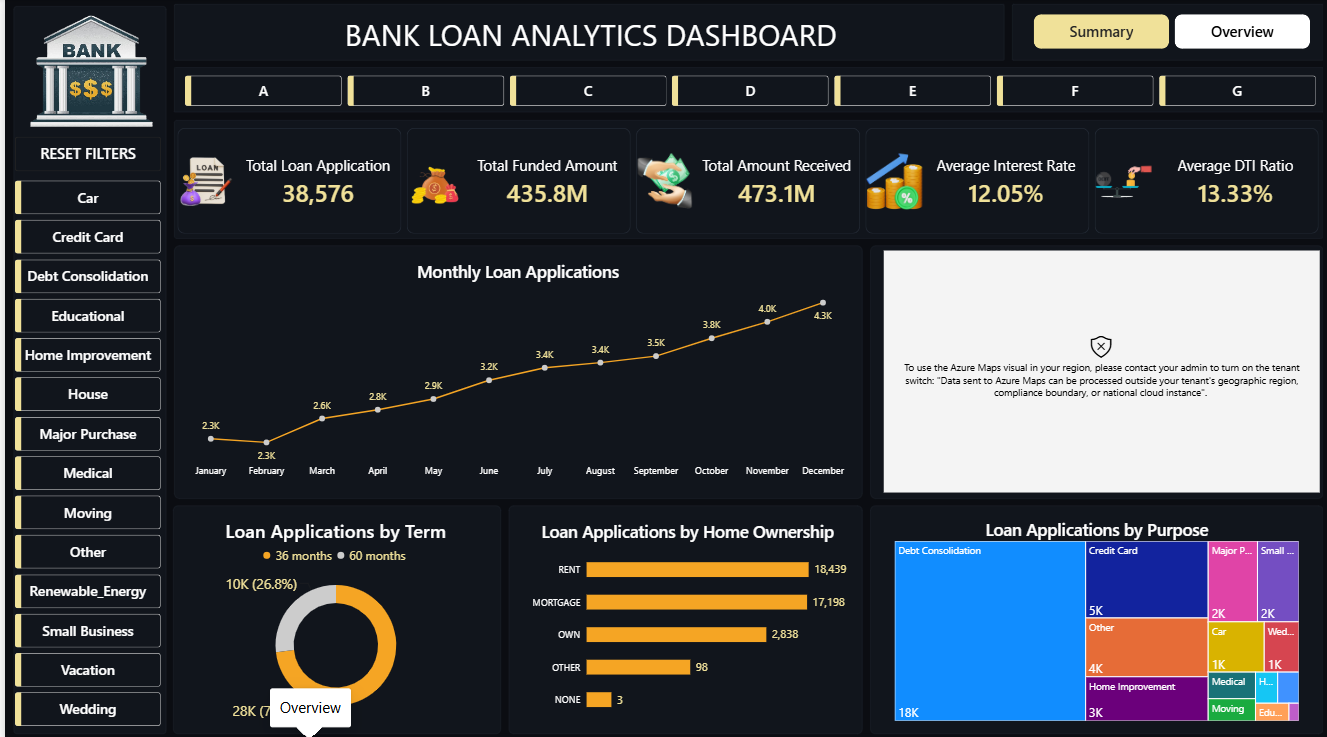

Layout of this report page (visuals, bound fields, positions):
{"tool":"powerbi","page":{"name":"Overview","canvas":[1920,1080],"ordinal":1},"visuals":[{"type":"cardVisual","fields":{"Data":["financial_loan.Total Loan Application","financial_loan.Total Funded Amount","financial_loan.Total Amount Received","financial_loan.Average Interest Rate","financial_loan.Average DTI Rate"]},"box":[250,187.8,1653.3,153.3],"z":0},{"type":"image","box":[0,0,250,210],"z":1000},{"type":"advancedSlicerVisual","fields":{"Values":["financial_loan.PURPOSE"]},"box":[14.3,264.3,211.4,802.9],"z":2000},{"type":"advancedSlicerVisual","fields":{"Values":["financial_loan.GRADE"]},"box":[260,113,1643,44],"z":3000},{"type":"actionButton","box":[14.3,200,211.4,50],"z":4000},{"type":"textbox","box":[250,24.3,1197.1,68.6],"z":5000},{"type":"pageNavigator","box":[1488.6,24.3,400,50],"z":6000},{"type":"lineChart","title":"Monthly Loan Applications","fields":{"Category":["financial_loan.ISSUE_DATE.Variation.Date Hierarchy.Month"],"Y":["financial_loan.Total Loan Application"]},"box":[250,365.7,985.7,348.6],"z":7000},{"type":"donutChart","title":"Loan Applications by Term","fields":{"Category":["financial_loan.TERM"],"Y":["financial_loan.Total Loan Application"]},"box":[250,738.6,458.6,328.6],"z":8000},{"type":"clusteredBarChart","title":"Loan Applications by Home Ownership","fields":{"Category":["financial_loan.HOME_OWNERSHIP"],"Y":["financial_loan.Total Loan Application"]},"box":[742.9,741.4,492.9,321.4],"z":9000},{"type":"treemap","title":"Loan Applications by Purpose","fields":{"Group":["financial_loan.PURPOSE"],"Values":["financial_loan.Total Loan Application"]},"box":[1271.4,738.6,617.1,324.3],"z":10000},{"type":"azureMap","title":"Loan Applications by State","fields":{"Category":["financial_loan.ADDRESS_STATE"],"Size":["financial_loan.Total Loan Application"]},"box":[1271.4,365.7,631.4,350],"z":11000}]}

Visuals, with their boxes in screenshot pixels (x1, y1, x2, y2), scaled from the page's 1920x1080 canvas onto the 1327x737 screenshot:
cardVisual - financial_loan.Total Loan Application x financial_loan.Total Funded Amount: left=173, top=128, right=1315, bottom=233
image: left=0, top=0, right=173, bottom=143
advancedSlicerVisual - financial_loan.PURPOSE: left=10, top=180, right=156, bottom=728
advancedSlicerVisual - financial_loan.GRADE: left=180, top=77, right=1315, bottom=107
actionButton: left=10, top=136, right=156, bottom=171
textbox: left=173, top=17, right=1000, bottom=63
pageNavigator: left=1029, top=17, right=1305, bottom=51
"Monthly Loan Applications" lineChart: left=173, top=250, right=854, bottom=487
"Loan Applications by Term" donutChart: left=173, top=504, right=490, bottom=728
"Loan Applications by Home Ownership" clusteredBarChart: left=513, top=506, right=854, bottom=725
"Loan Applications by Purpose" treemap: left=879, top=504, right=1305, bottom=725
"Loan Applications by State" azureMap: left=879, top=250, right=1315, bottom=488
